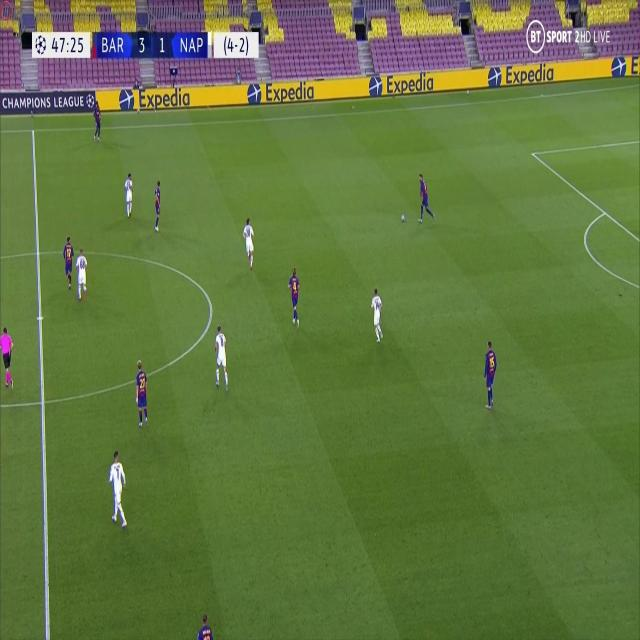ball: (400, 211, 406, 223)
player: (106, 448, 128, 530), (133, 358, 150, 431), (482, 338, 499, 410), (212, 324, 229, 394), (0, 323, 16, 389), (416, 173, 435, 225), (286, 266, 302, 327), (61, 233, 76, 290), (370, 284, 384, 342), (75, 246, 89, 301), (242, 216, 256, 269), (152, 177, 164, 232), (90, 97, 102, 141), (123, 170, 134, 218)
